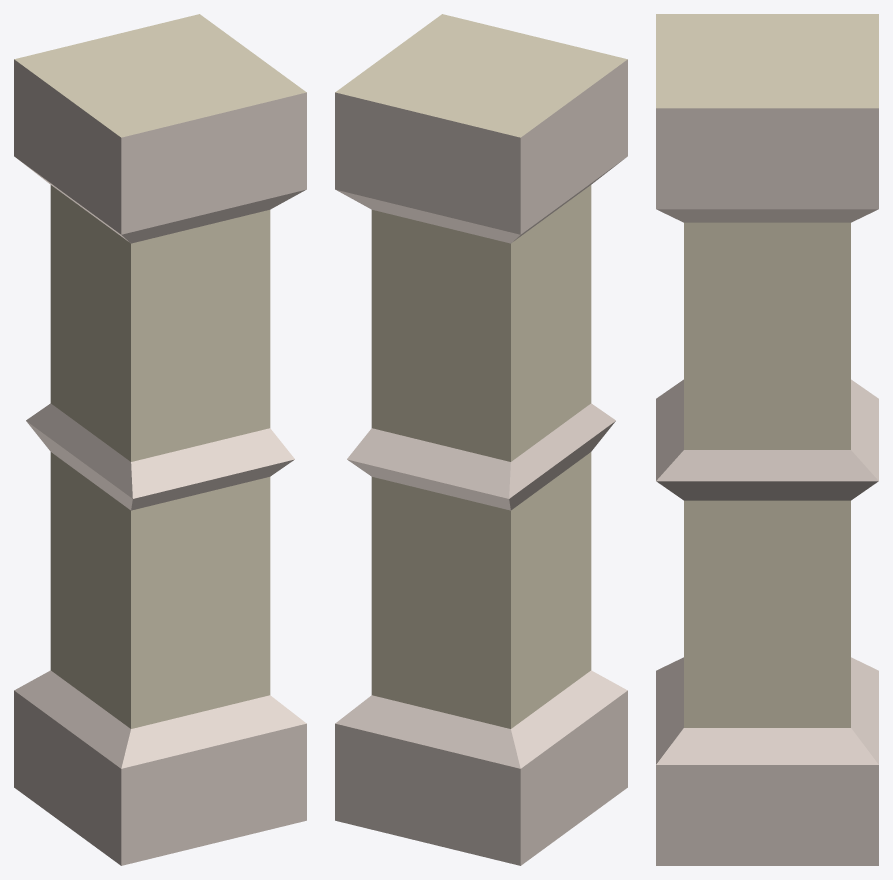
File: roman_wall_column_3.fbx
3 views of the same model, side by side, from view 1: azimuth 30°, elevation 25°; view 2: azimuth 150°, elevation 25°; view 3: azimuth 270°, elevation 25° (orthographic). The views are drawn at different scales.
Parts seen in each view (by area): view 1: Cube.028; view 2: Cube.028; view 3: Cube.028.
Boxes of the visible parts, box(x1,y1,x2,y2) form: Cube.028: box(14, 14, 306, 865); Cube.028: box(335, 14, 627, 865); Cube.028: box(656, 14, 878, 865).
Bounding box in the file's own units: 0.8 × 3 × 0.8.
